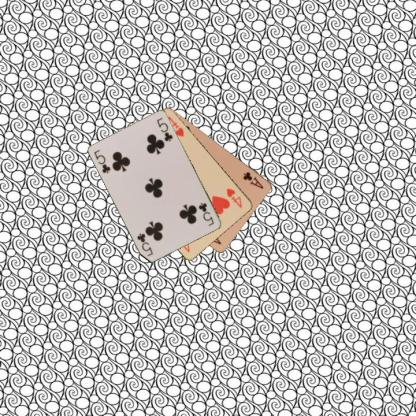4h: (224, 186, 243, 209)
5c: (92, 148, 112, 174), (196, 201, 215, 227)
Ac: (240, 169, 265, 190)
